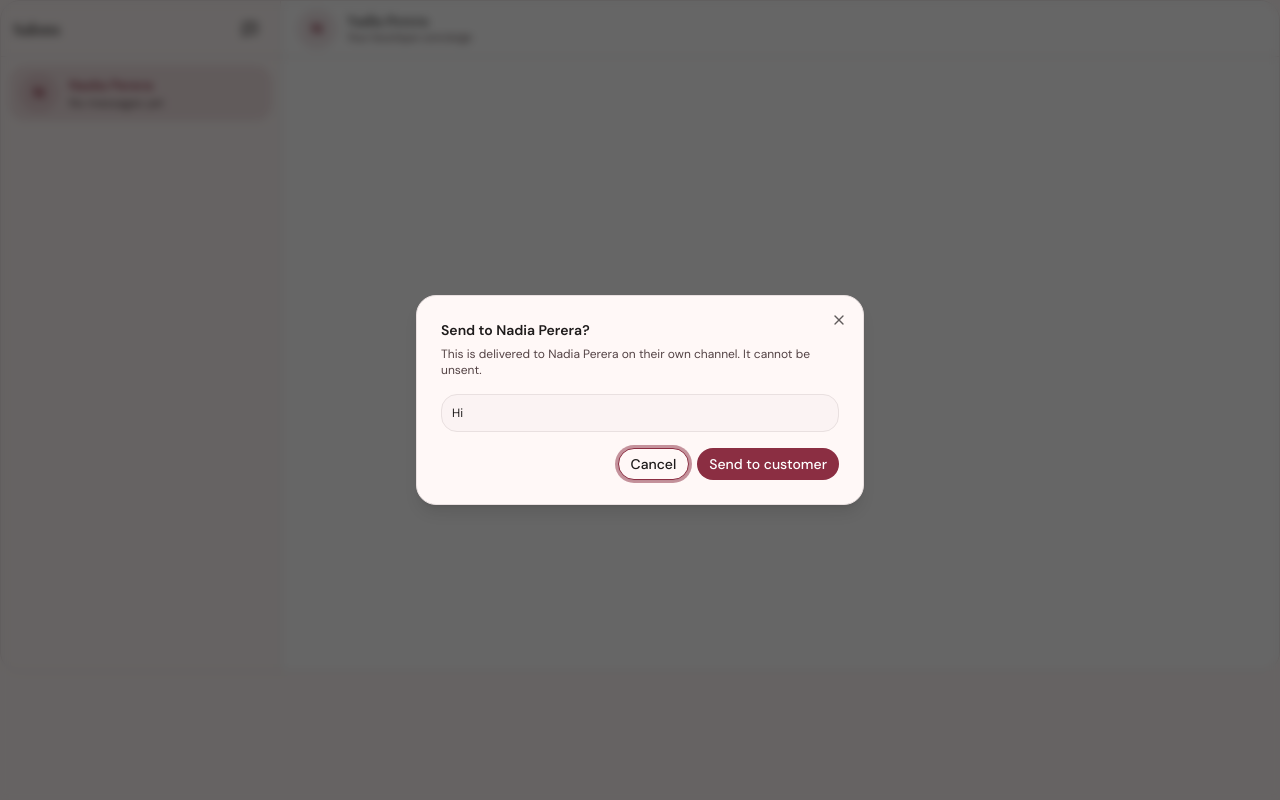
Test case: the full flow: press the rail, confirm, and the client is delivered to › delivers nothing when the associate dismisses the confirmation
Click the button "Cancel": (653, 464) [618,448,689,480]
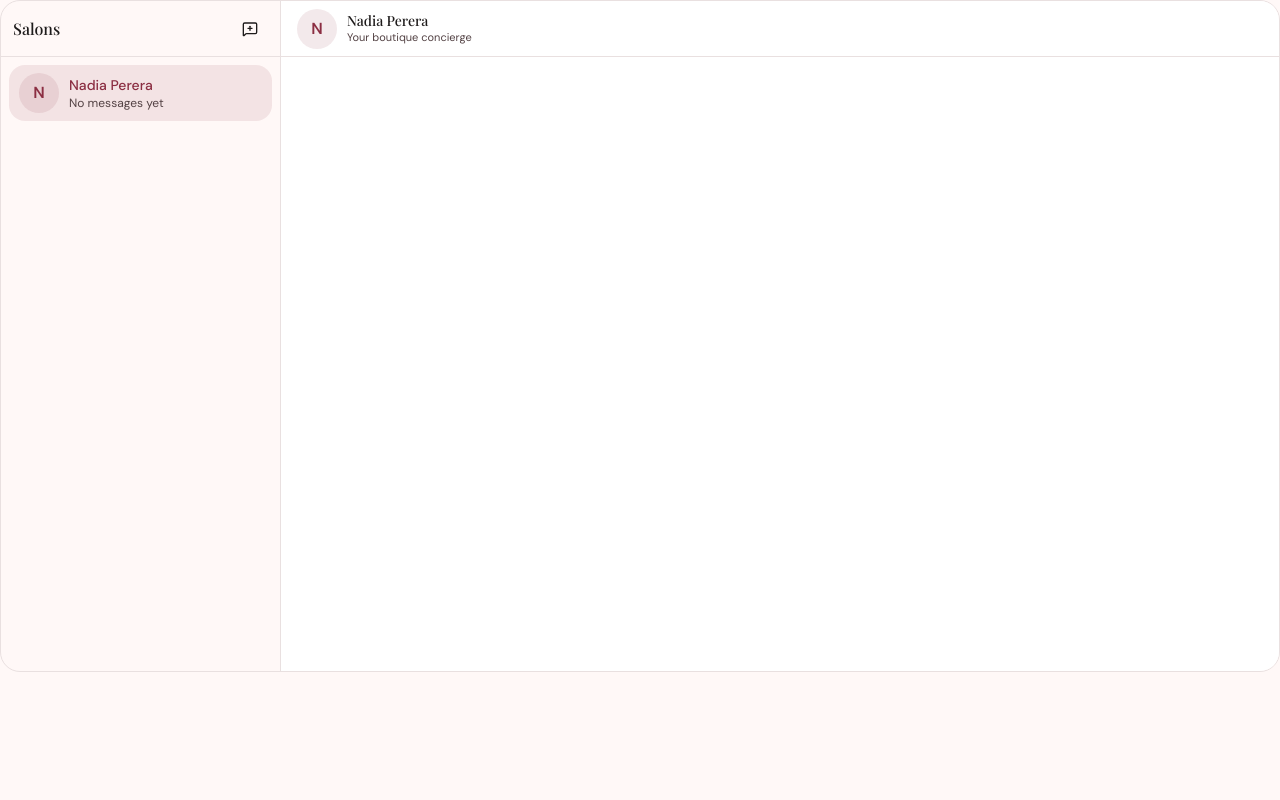
Now the dialog is gone
